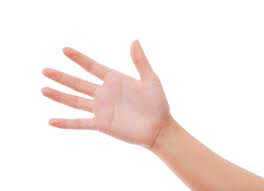palm: (40, 34, 170, 158)
